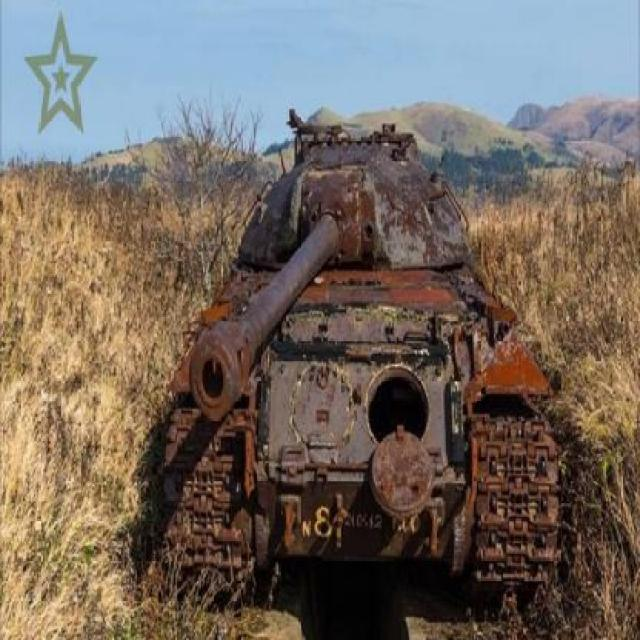corrosion: (172, 106, 566, 594)
